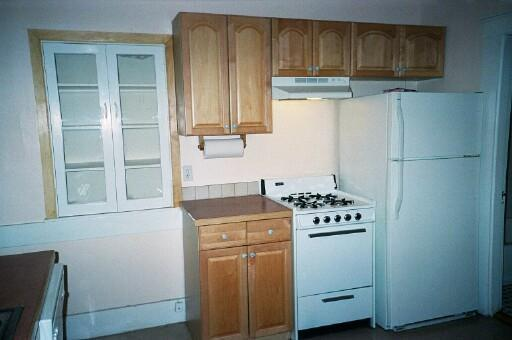Electrodomestico: (376, 97, 478, 320), (293, 213, 375, 328)
Ventana: (42, 42, 173, 209)
